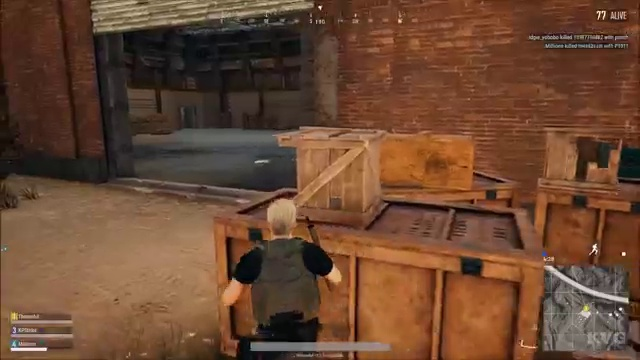Player: (217, 195, 348, 328)
